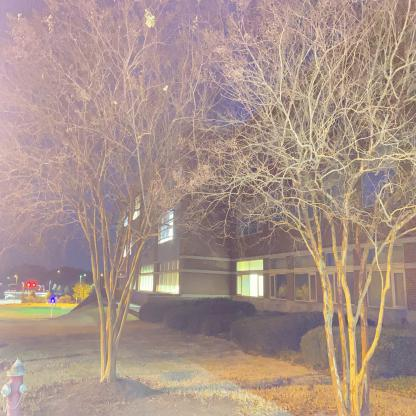eb2: (118, 57, 415, 328)
